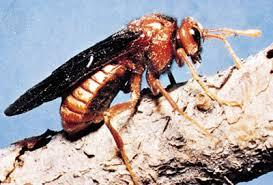insect: (3, 10, 264, 185)
